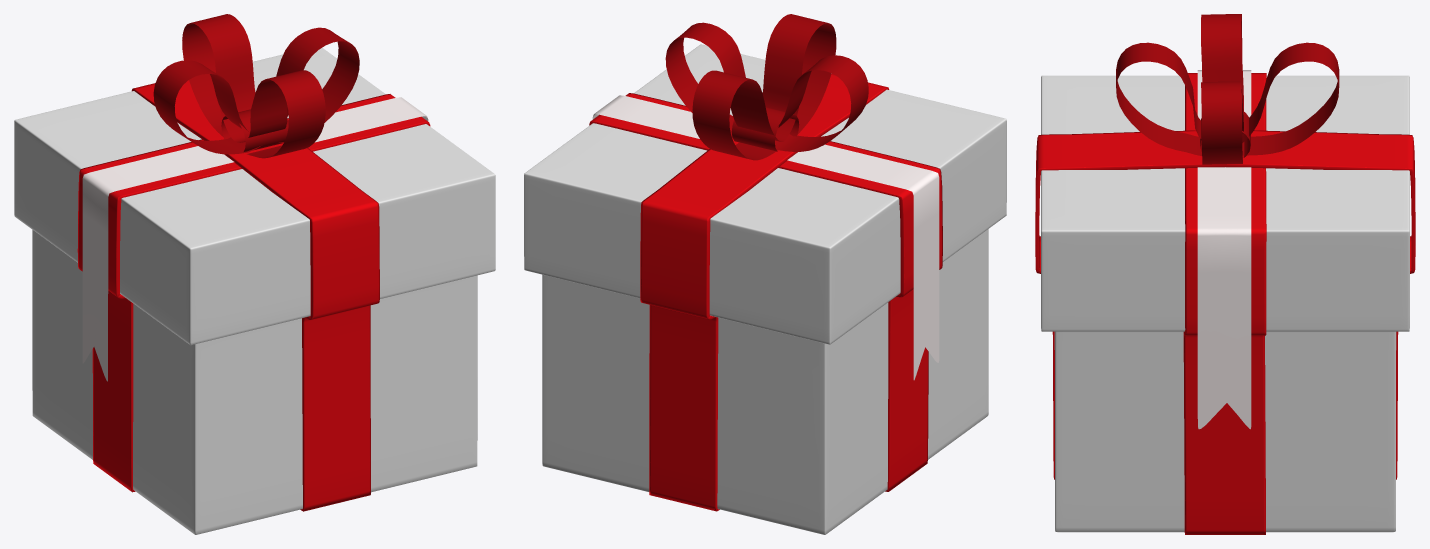
Rendered from present.glb.
The picture shows the model from 3 angles, left to right: view 1: azimuth 30°, elevation 25°; view 2: azimuth 150°, elevation 25°; view 3: azimuth 270°, elevation 25°; orthographic projection. The views are drawn at different scales.
Visible parts, largest first — view 1: box, ribbon_3, ribbon_2, ribbon_4, green_ribbon, ribbon_5, ribbon_1; view 2: box, ribbon_3, ribbon_2, ribbon_4, green_ribbon, ribbon_5, ribbon_1; view 3: box, ribbon_2, green_ribbon, ribbon_3, ribbon_4, ribbon_5.
Part boxes in pixels (bbox=[...]): box: bbox=[14, 48, 495, 534]; ribbon_3: bbox=[131, 80, 379, 511]; ribbon_2: bbox=[77, 94, 430, 492]; ribbon_4: bbox=[182, 14, 325, 158]; green_ribbon: bbox=[82, 97, 428, 381]; ribbon_5: bbox=[153, 27, 359, 154]; ribbon_1: bbox=[221, 109, 287, 151]; box: bbox=[524, 44, 1006, 534]; ribbon_3: bbox=[640, 73, 889, 511]; ribbon_2: bbox=[589, 93, 942, 491]; ribbon_4: bbox=[692, 14, 836, 160]; green_ribbon: bbox=[592, 95, 939, 380]; ribbon_5: bbox=[665, 22, 868, 151]; ribbon_1: bbox=[731, 107, 799, 151]; box: bbox=[1041, 75, 1409, 532]; ribbon_2: bbox=[1183, 73, 1266, 534]; green_ribbon: bbox=[1197, 70, 1251, 429]; ribbon_3: bbox=[1035, 130, 1415, 479]; ribbon_4: bbox=[1116, 42, 1339, 155]; ribbon_5: bbox=[1201, 14, 1243, 164].
Size of the model in its own units: 2.26 by 2.67 by 2.23.
